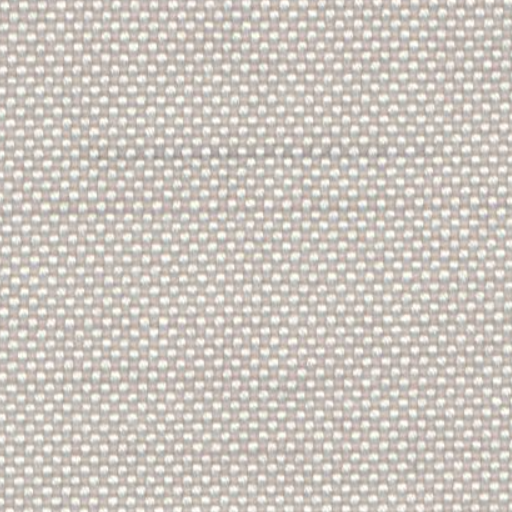WuZi: (100, 134, 445, 170)
